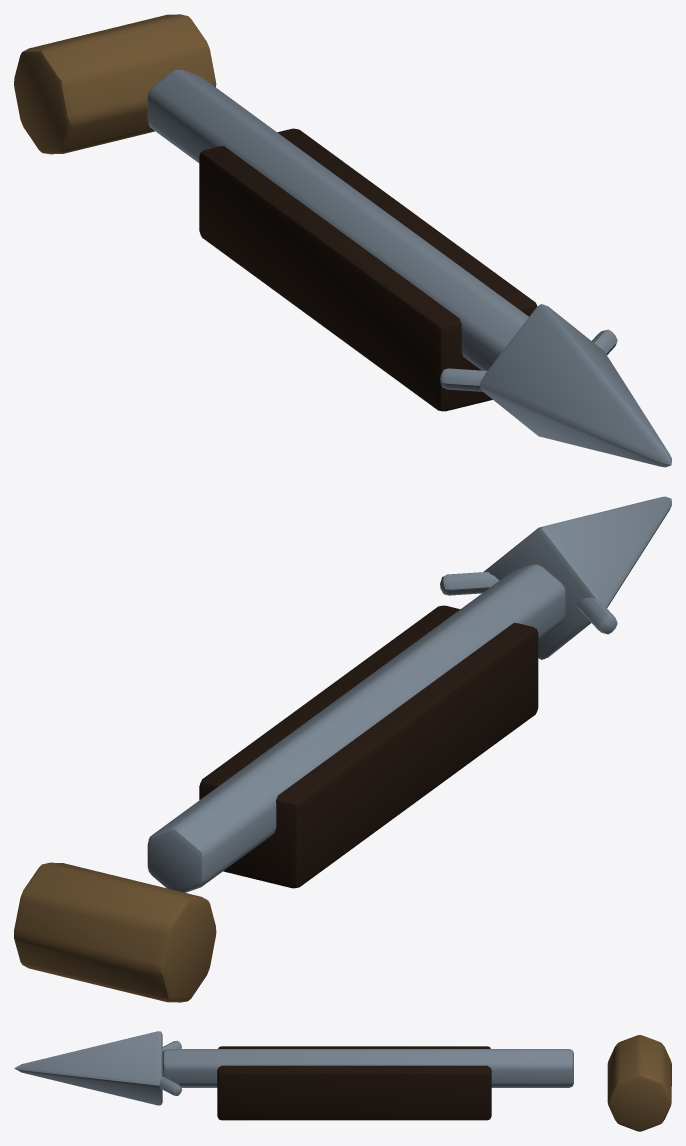
The model's file is HarpoonProng.obj.
3 renders of one model, top to bottom at view 1: azimuth 30°, elevation 25°; view 2: azimuth 150°, elevation 25°; view 3: azimuth 270°, elevation 25°, orthographic. The views are drawn at different scales.
Visible parts, largest first — view 1: HarpoonProng; view 2: HarpoonProng; view 3: HarpoonProng.
Boxes of the visible parts, box(x1,y1,x2,y2) form: HarpoonProng: box(14, 14, 671, 467); HarpoonProng: box(14, 496, 671, 1002); HarpoonProng: box(14, 1031, 671, 1131).
Bounding box in the file's own units: 0.2075 × 0.1627 × 1.2.
